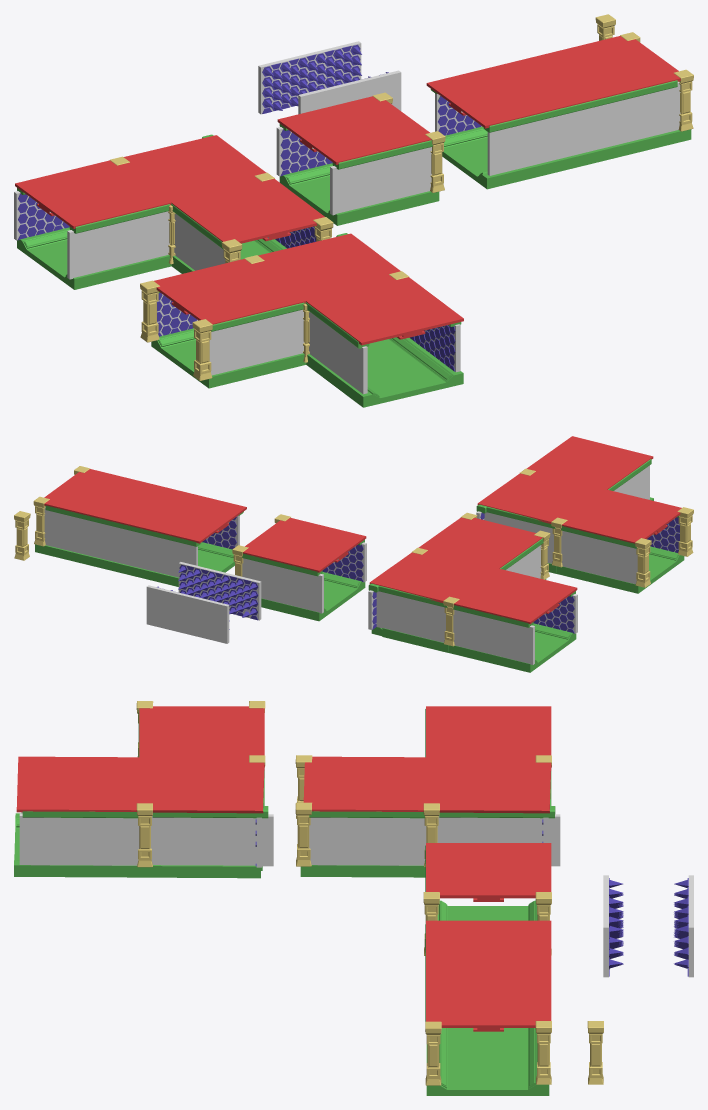
Rendered from maze1.fbx.
3 views of the same model, one above another, from view 1: azimuth 30°, elevation 25°; view 2: azimuth 150°, elevation 25°; view 3: azimuth 270°, elevation 25° (orthographic). The views are drawn at different scales.
Parts seen in each view (by area): view 1: Cube.002, Cube.001, Cube.003, Cube.012, Cube.005, Cube.004; view 2: Cube.001, Cube.002, Cube.003, Cube.012, Cube.005, Cube.004, Cube.006; view 3: Cube.002, Cube.001, Cube.003, Cube.012, Cube.004, Cube.005, Cube.006.
Part boxes in pixels (box(x1,y1,x2,y2)): Cube.002: box(140, 233, 463, 407); Cube.001: box(14, 134, 333, 289); Cube.003: box(426, 32, 693, 189); Cube.012: box(276, 92, 445, 225); Cube.005: box(258, 41, 361, 114); Cube.004: box(297, 70, 401, 114); Cube.001: box(368, 512, 577, 672); Cube.002: box(476, 436, 693, 593); Cube.003: box(33, 466, 246, 586); Cube.012: box(232, 514, 366, 621); Cube.005: box(146, 585, 229, 643); Cube.004: box(178, 562, 261, 620); Cube.006: box(14, 511, 30, 560); Cube.002: box(14, 701, 273, 878); Cube.001: box(295, 706, 560, 877); Cube.003: box(425, 920, 551, 1095); Cube.012: box(423, 843, 551, 955); Cube.004: box(603, 875, 623, 977); Cube.005: box(674, 875, 693, 977); Cube.006: box(587, 1021, 603, 1084).
Size of the model in its own units: 14096 by 1381 by 12366.
